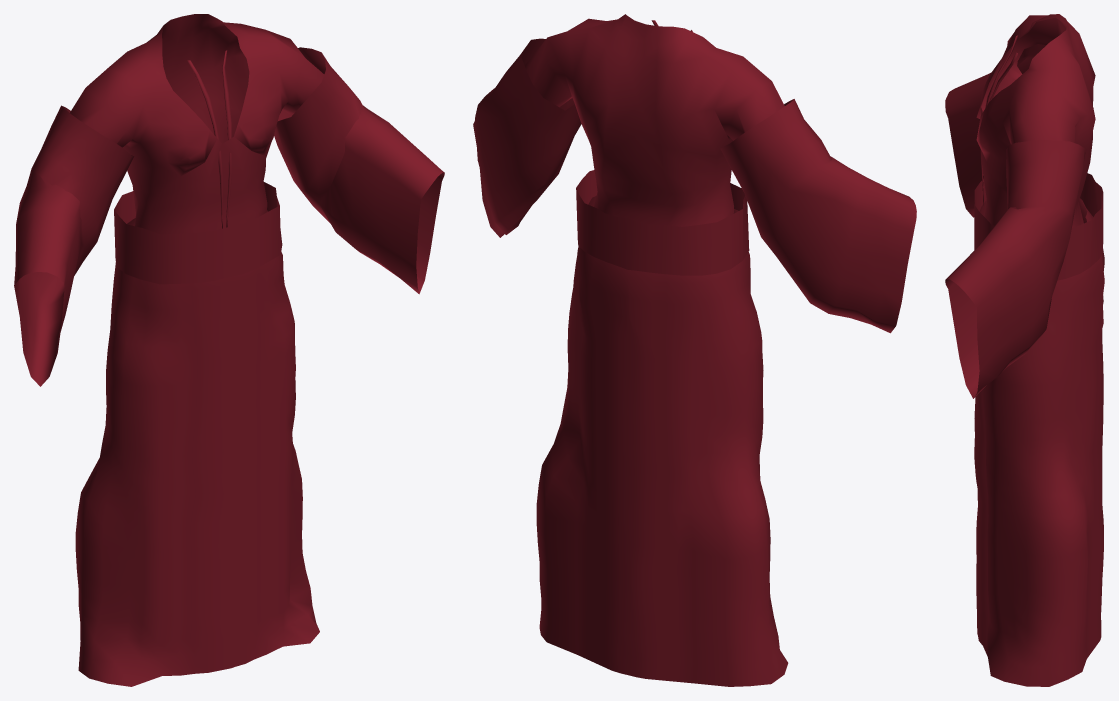
File: kimono.glb
3 views of the same model, side by side, from view 1: azimuth 30°, elevation 25°; view 2: azimuth 150°, elevation 25°; view 3: azimuth 270°, elevation 25° (orthographic). The views are drawn at different scales.
Visible parts, largest first — view 1: kimono; view 2: kimono; view 3: kimono.
Boxes of the visible parts, box(x1,y1,x2,y2) form: kimono: box(14, 14, 444, 686); kimono: box(473, 14, 916, 686); kimono: box(945, 14, 1104, 686).
Bounding box in the file's own units: 1.08 × 1.49 × 0.3547.
